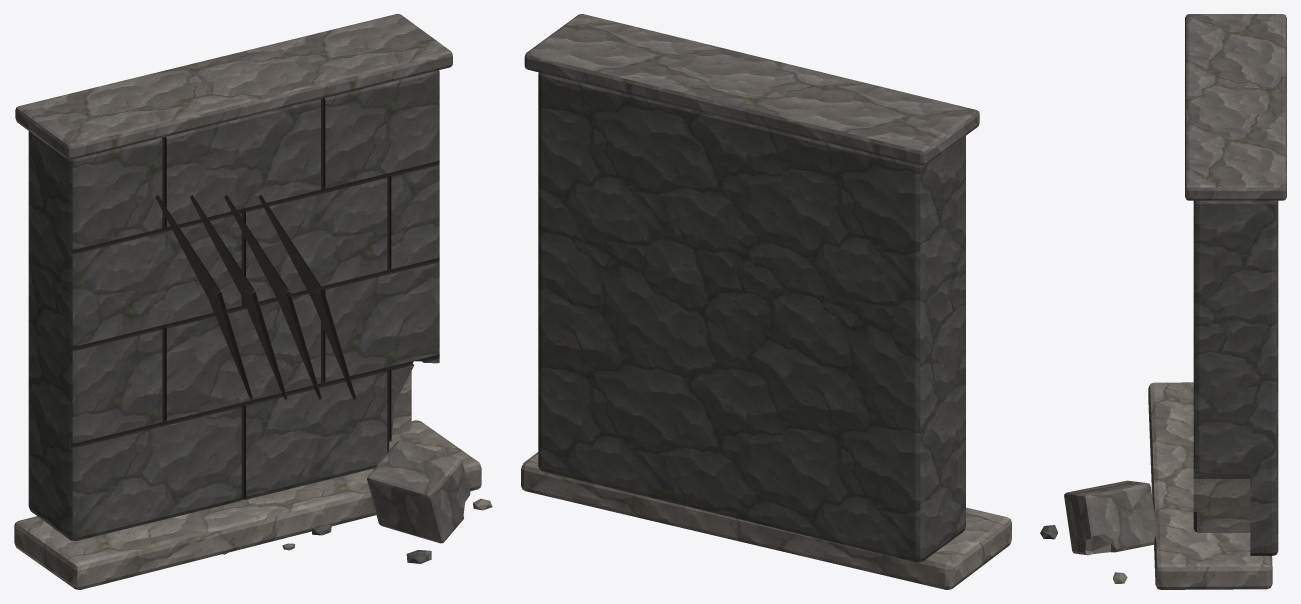
Rendered from vo_claw_marks.glb.
3 views of the same model, side by side, from view 1: azimuth 30°, elevation 25°; view 2: azimuth 150°, elevation 25°; view 3: azimuth 270°, elevation 25° (orthographic). The views are drawn at different scales.
Parts seen in each view (by area): view 1: model; view 2: model; view 3: model.
Part boxes in pixels (box(x1,y1,x2,y2)): model: box(14, 14, 492, 589); model: box(521, 14, 1011, 589); model: box(1040, 14, 1286, 589).
Size of the model in its own units: 1.56 by 1.56 by 0.8721.
Materials: 4 (3 with a texture image).
